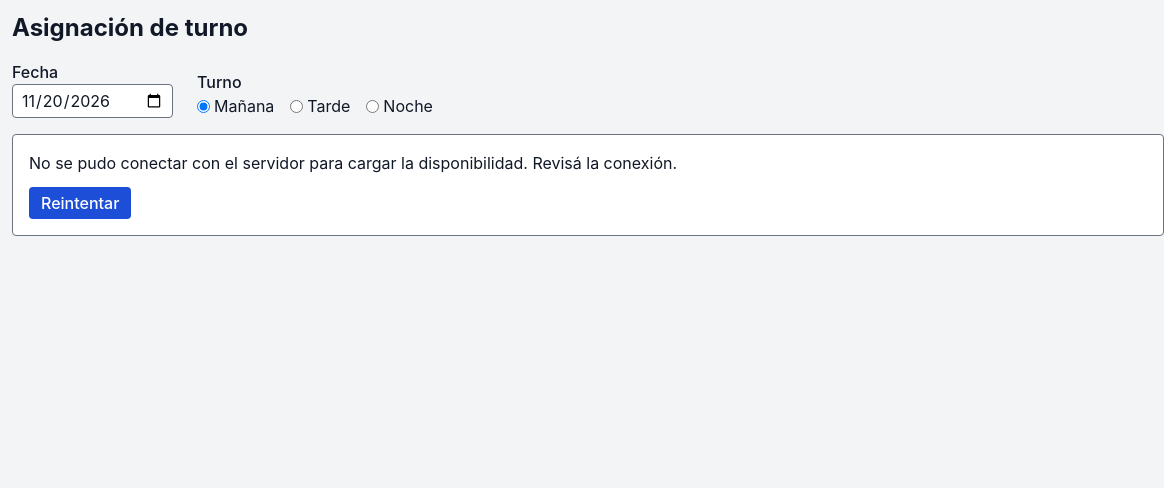
Test: ShiftsPage › si falla la carga ofrece Reintentar y se recupera
Expected: the message shows "No se pudo conectar con el servidor para cargar la disponibilidad. Revisá la conexión.", [29,153,677,173]
Click the button "Reintentar".
click(80, 203)  # box [29,187,131,219]
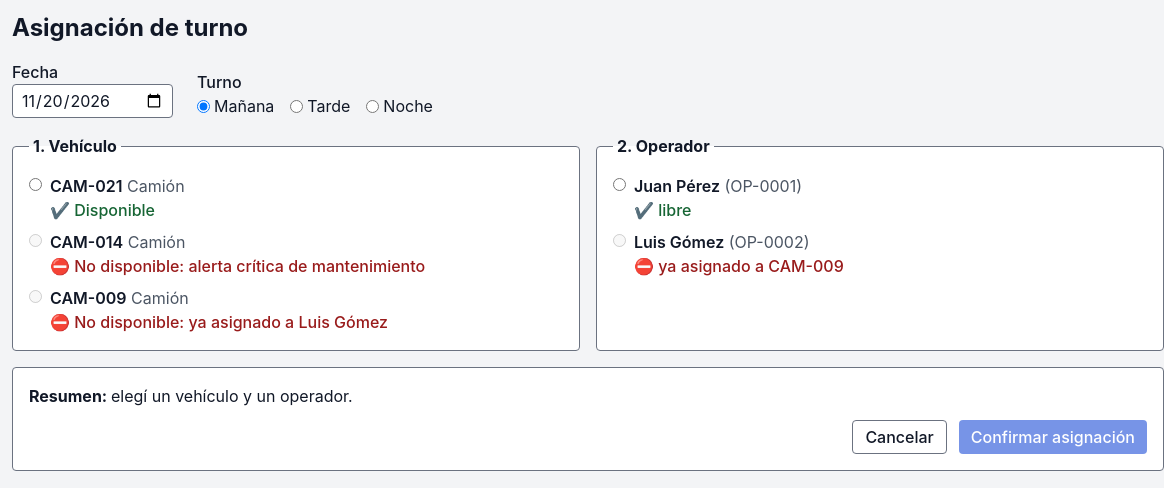
Now the radio button labelled "CAM-021 Camión✔ Disponible" is shown, box [29,178,42,191]
